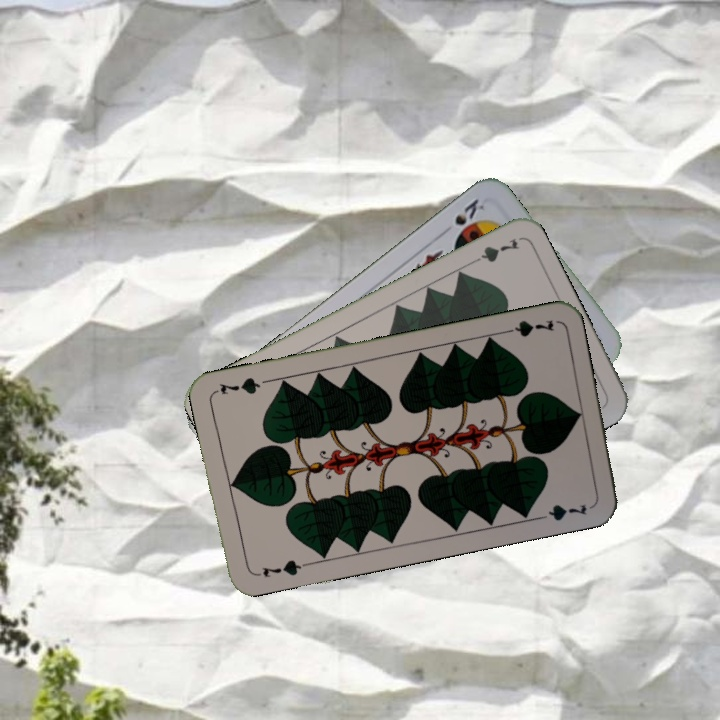G7: (464, 233, 522, 268), (498, 315, 557, 340), (251, 556, 309, 580)
SK: (450, 194, 488, 229)
